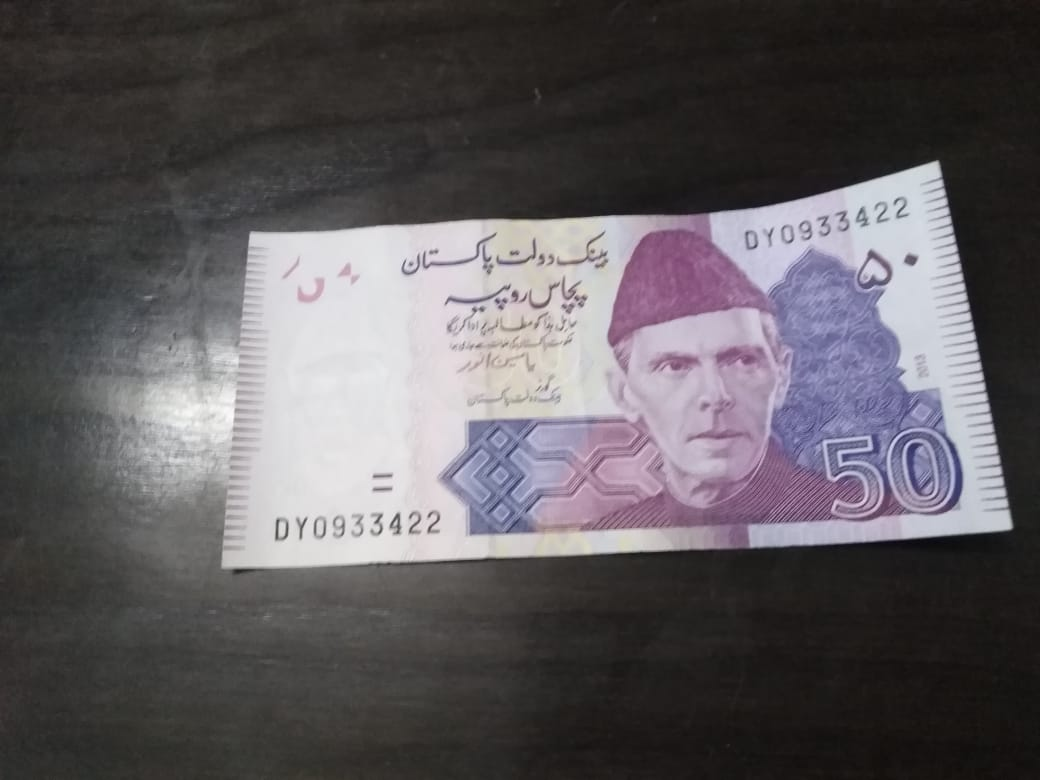50 rupee: (210, 189, 1011, 594)
